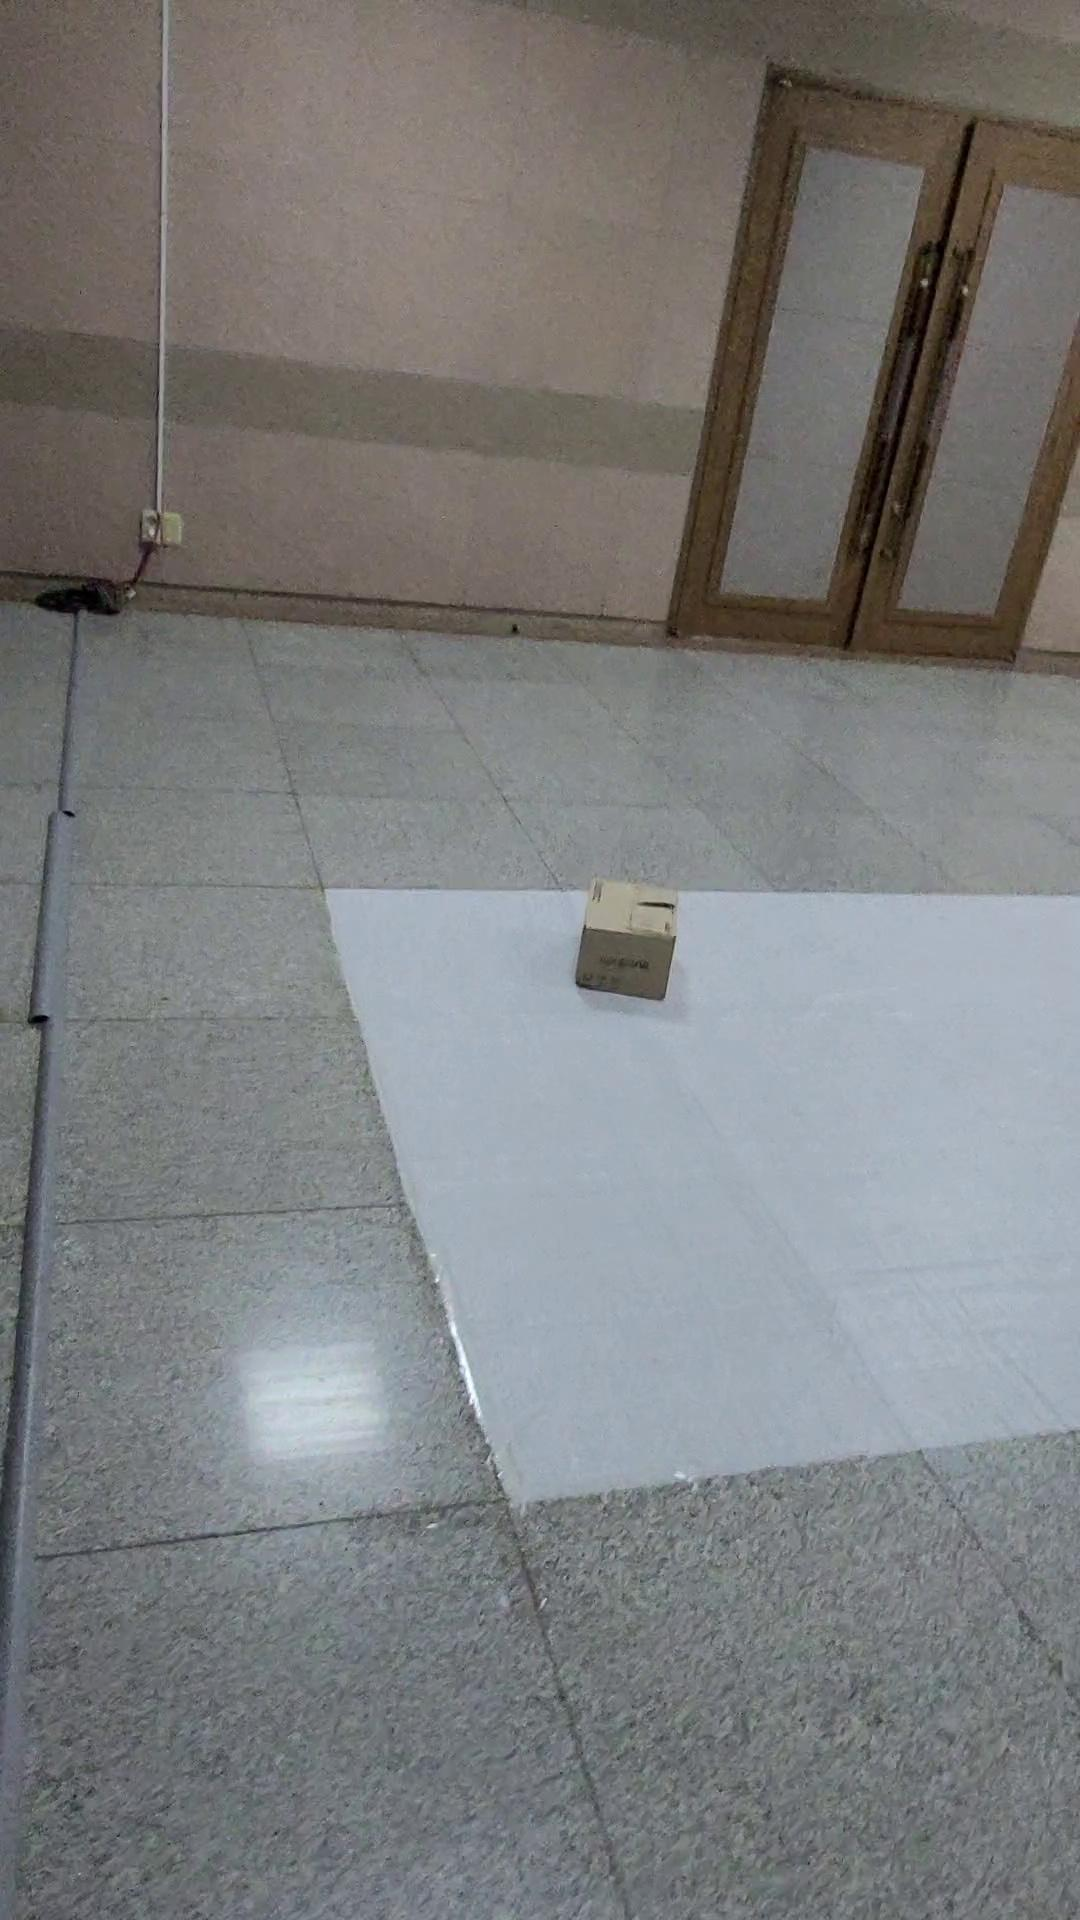Box: (566, 845, 705, 1021)
